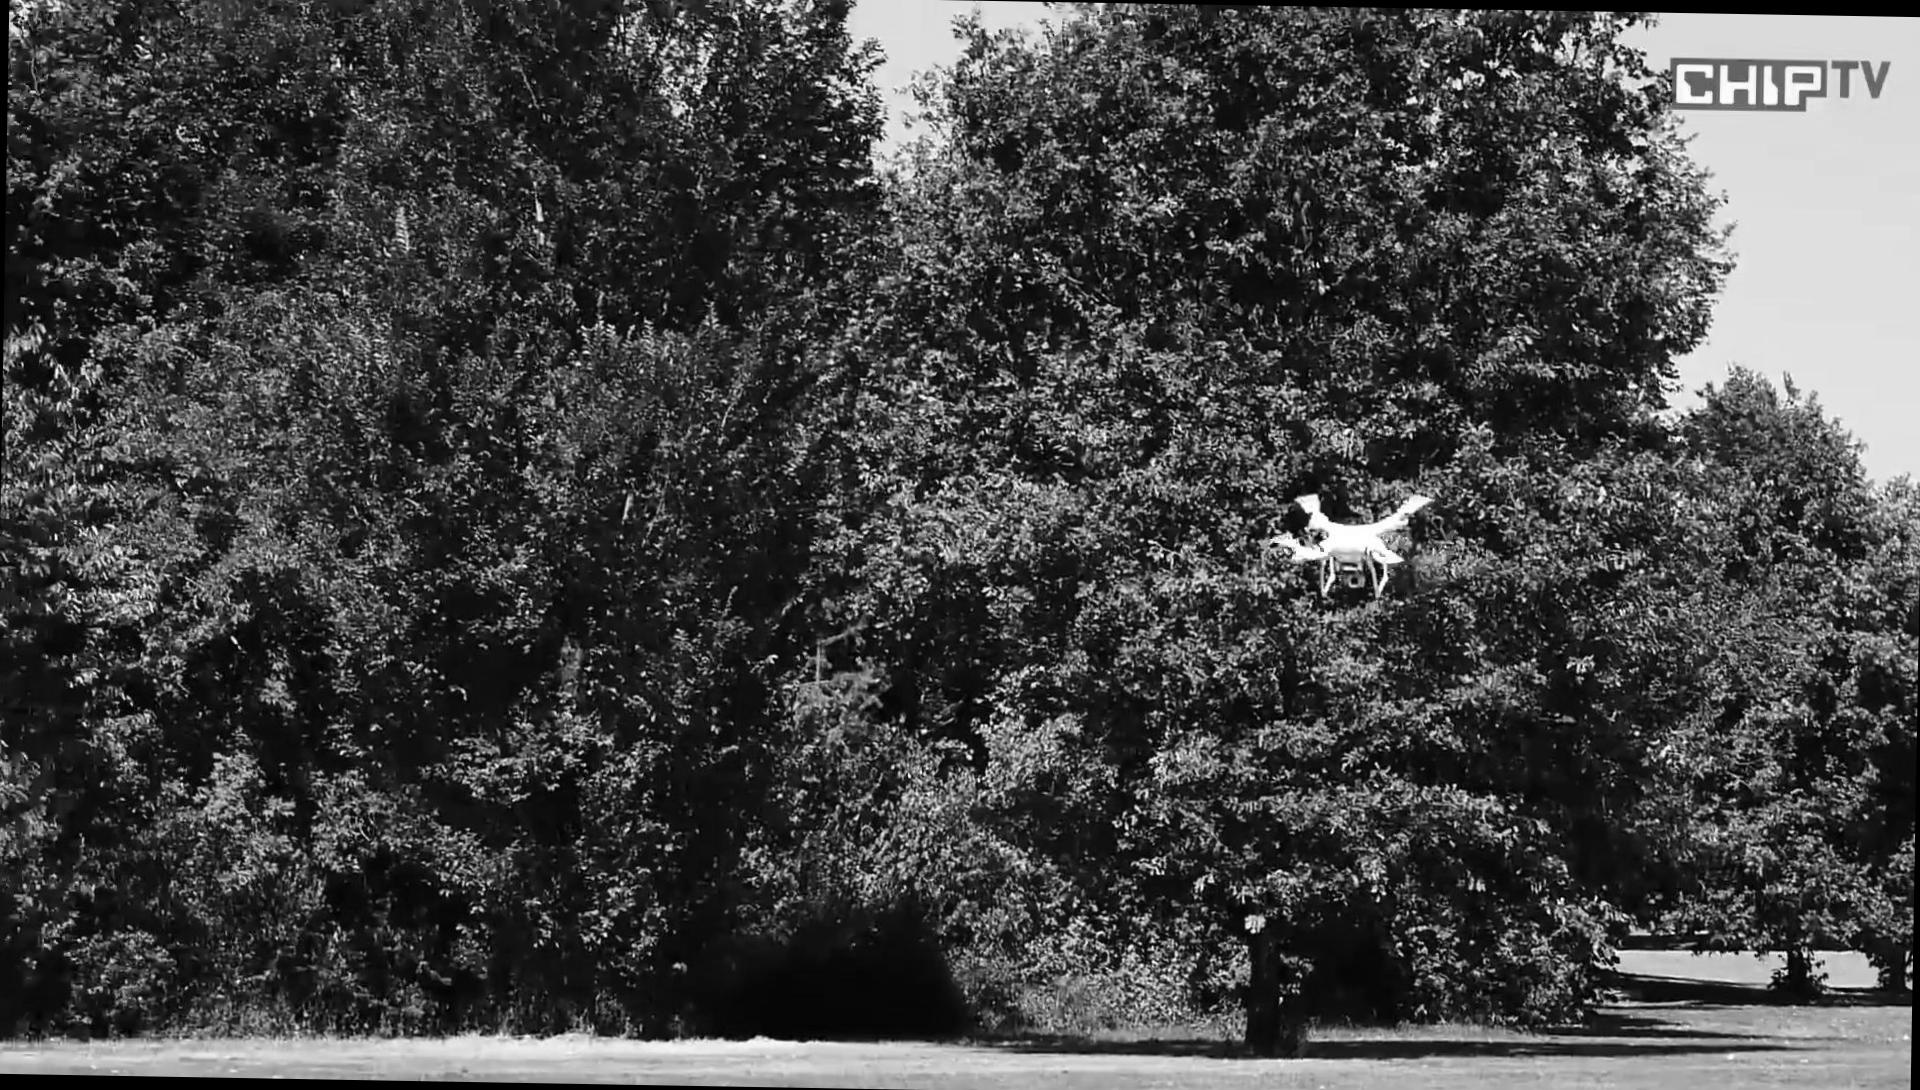drone: (1269, 486, 1431, 605)
